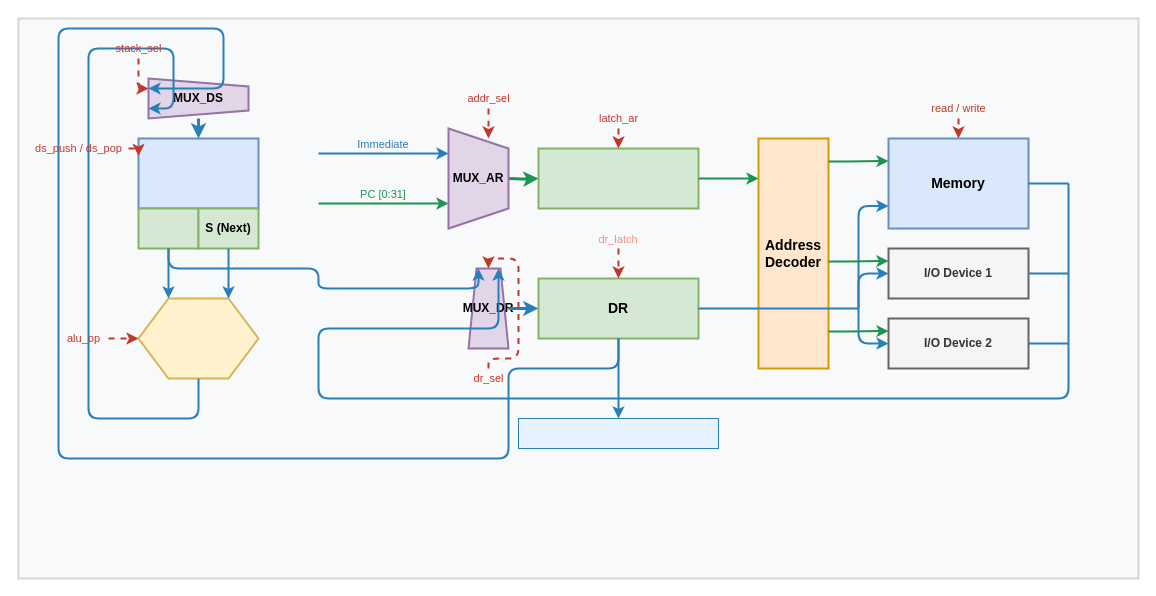
Image size: 1156x596. Some labels were removed from this diagram. The centre of each missing label's shape, as x and y in pixels:
"ALU" belongs at point (198, 338).
"AR" belongs at point (618, 178).
"Data Stack" belongs at point (198, 173).
"Instruction [0:31] to Control Unit" belongs at point (618, 433).
"T (Top)" belongs at point (168, 228).
